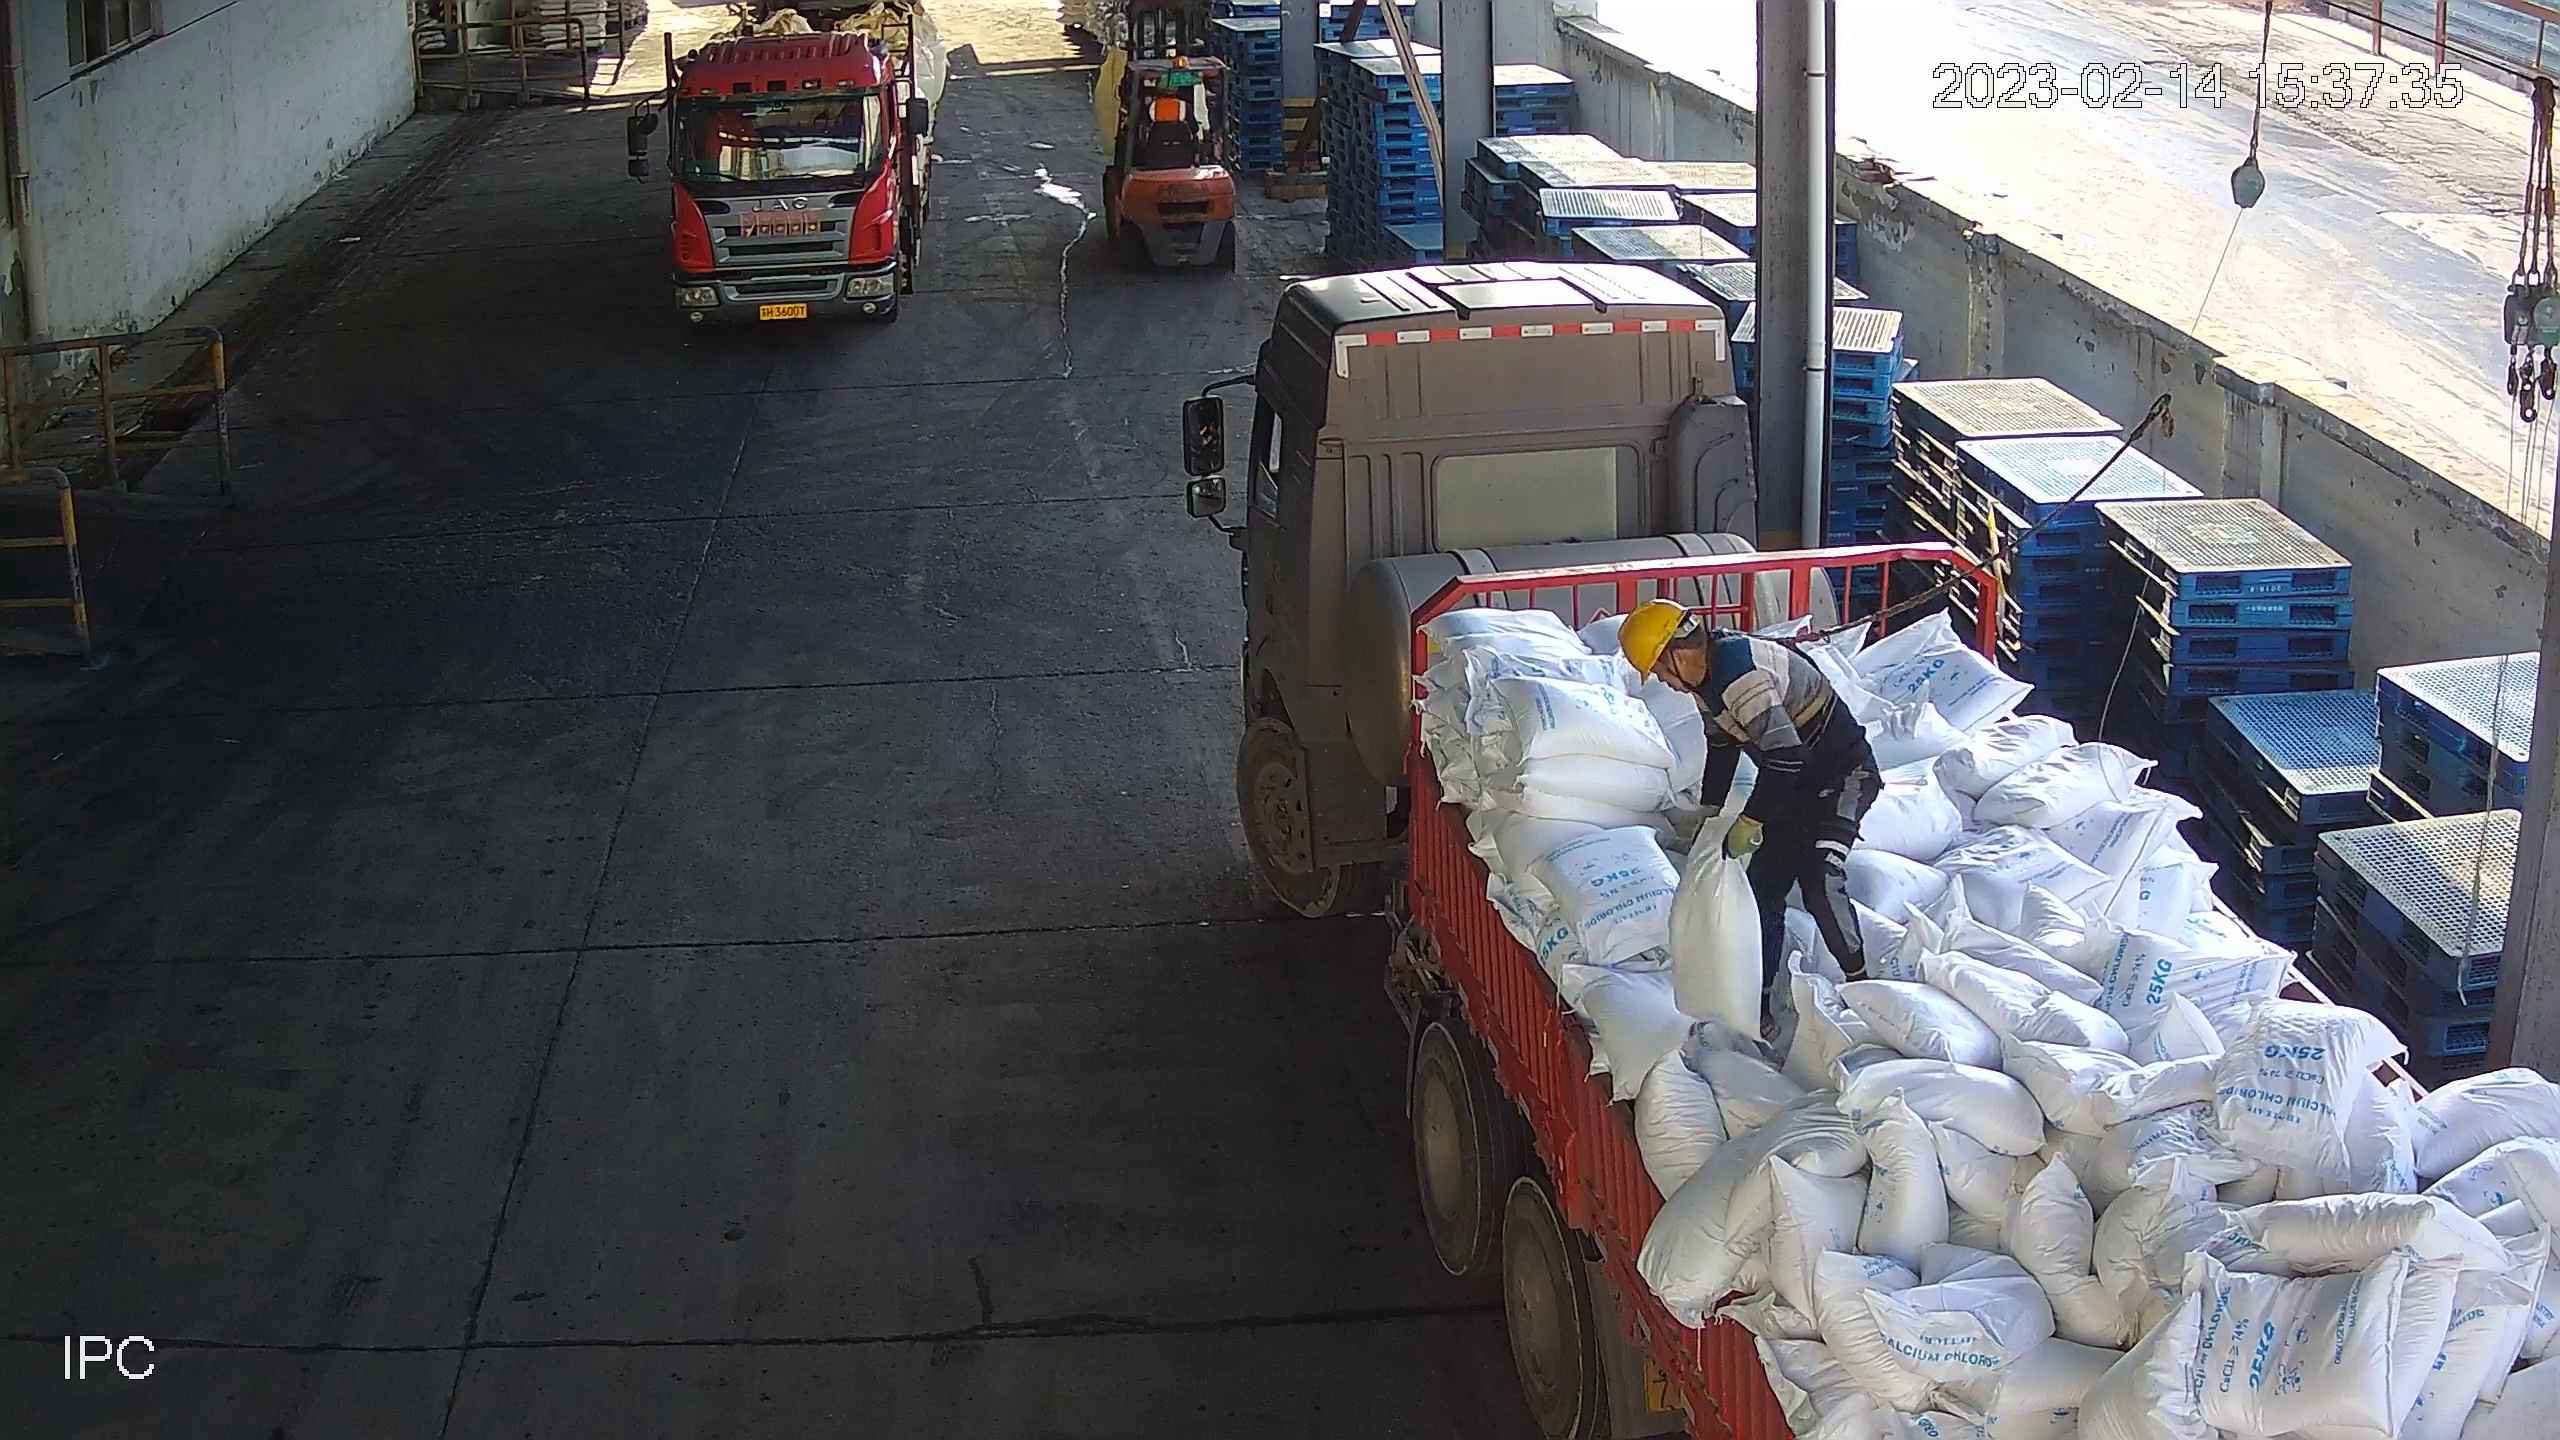belt: (1764, 629, 1842, 729)
head: (1612, 591, 1794, 753)
helmet: (1620, 591, 1688, 675)
people: (1625, 593, 1907, 1040)
truck: (1192, 232, 2560, 1440), (625, 12, 940, 336)
